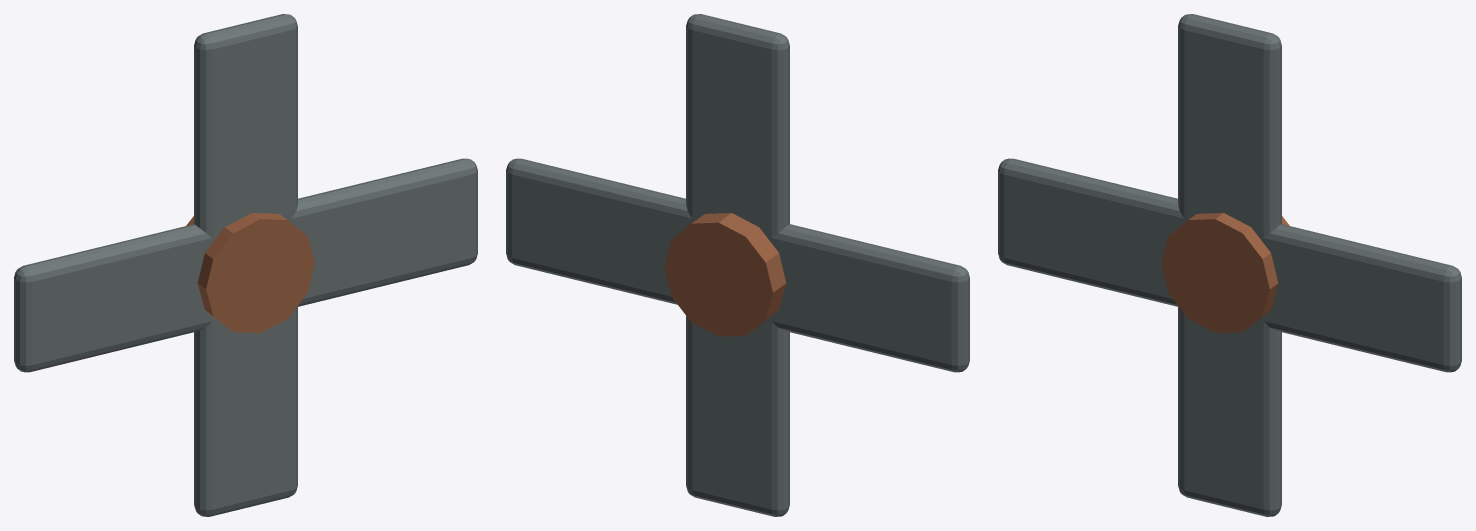
Rendered from fan_blades.glb.
3 views of the same model, side by side, from view 1: azimuth 30°, elevation 25°; view 2: azimuth 150°, elevation 25°; view 3: azimuth 330°, elevation 25° (orthographic).
Parts seen in each view (by area): view 1: fan_blades; view 2: fan_blades; view 3: fan_blades.
Part boxes in pixels (x1=…): fan_blades: x1=14, y1=14, x2=477, y2=516; fan_blades: x1=506, y1=14, x2=969, y2=516; fan_blades: x1=998, y1=14, x2=1461, y2=516.
Bounding box in the file's own units: 0.55 × 0.55 × 0.07.
